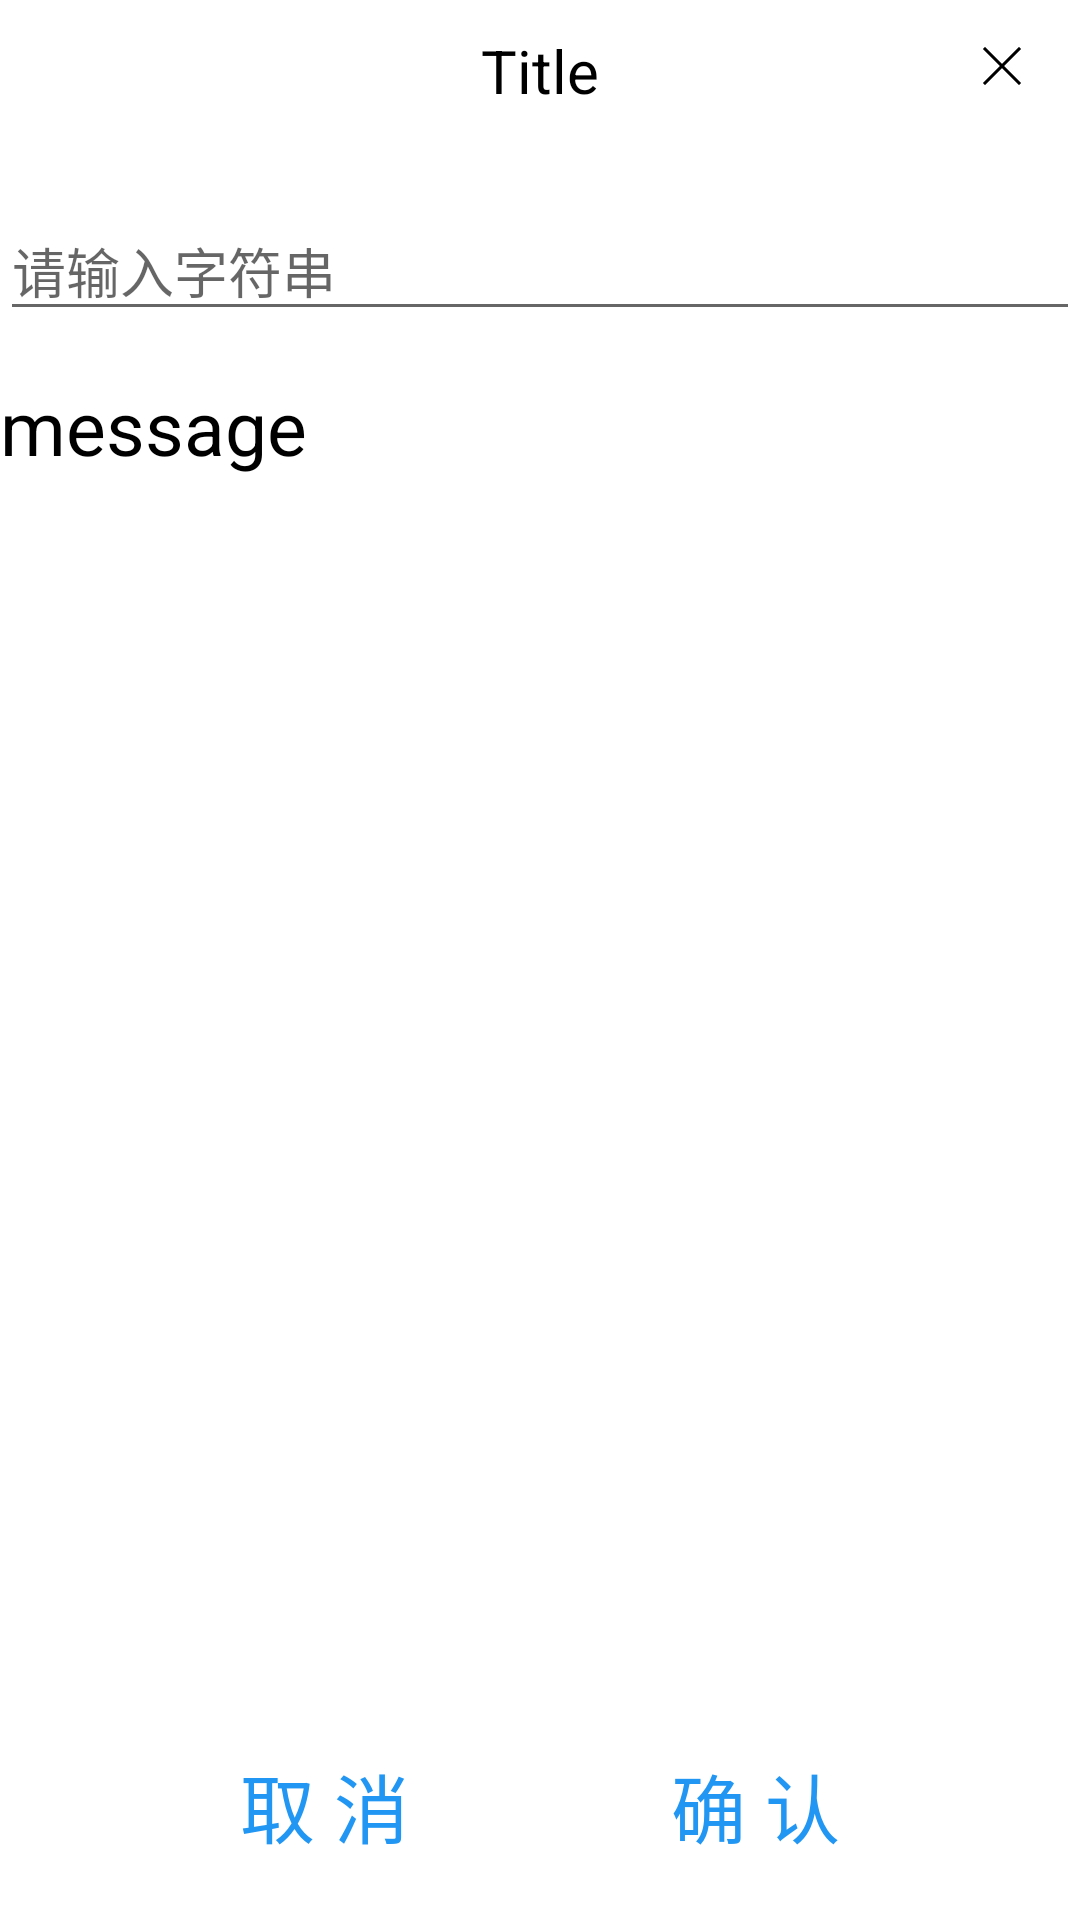

Named icons in this screenshot (1080px×1920px) and their centers, (x=x, y=y):
close: (x=1002, y=66)
